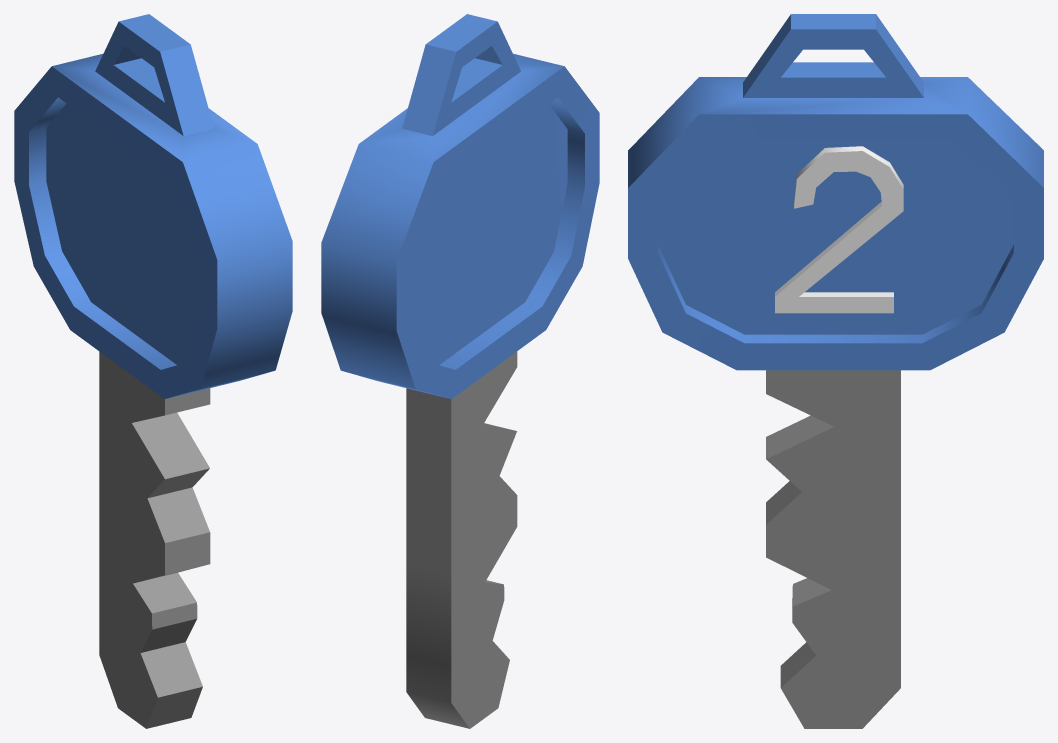
File: Key_2.fbx
3 renders of one model, left to right at view 1: azimuth 30°, elevation 25°; view 2: azimuth 150°, elevation 25°; view 3: azimuth 270°, elevation 25°, orthographic. The views are drawn at different scales.
Parts seen in each view (by area): view 1: Cube.001; view 2: Cube.001; view 3: Cube.001.
Boxes of the visible parts, box(x1,y1,x2,y2) form: Cube.001: box(14, 14, 292, 728); Cube.001: box(321, 14, 599, 728); Cube.001: box(628, 14, 1043, 728).
Size of the model in its own units: 52.12 by 449 by 243.
